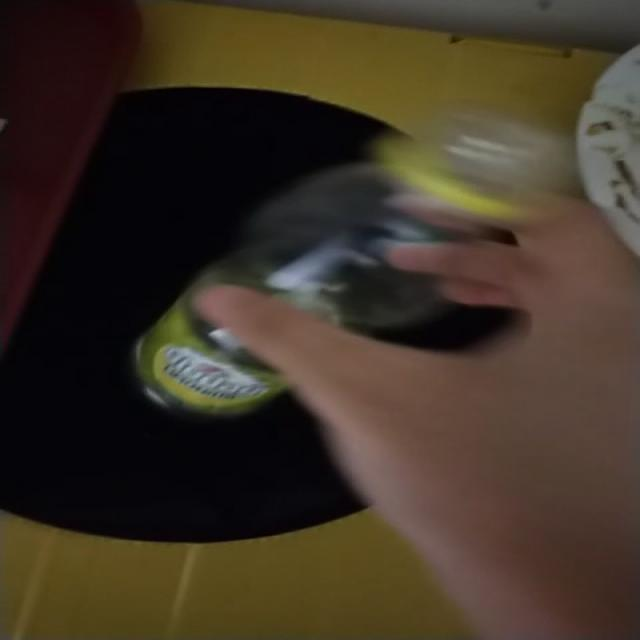plastic: (133, 108, 580, 417), (128, 164, 517, 420), (378, 108, 579, 218)
